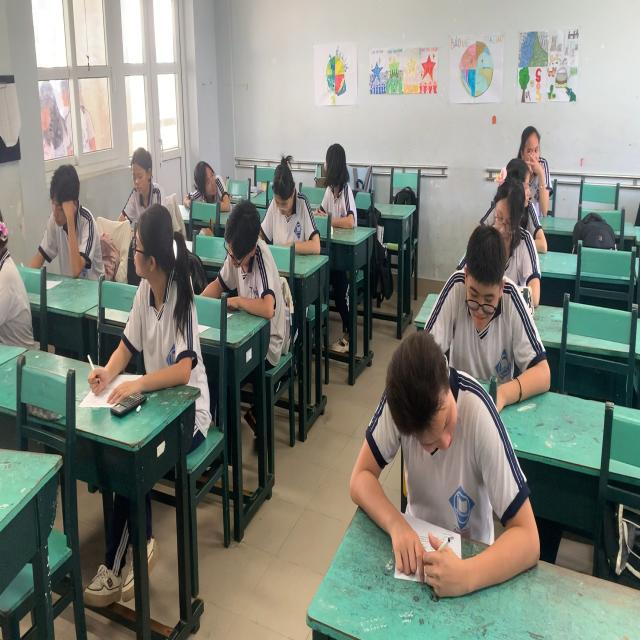cheating: (117, 203, 195, 386), (318, 137, 366, 237), (500, 137, 531, 220), (193, 165, 234, 216)
not_cheating: (364, 334, 490, 562), (424, 228, 524, 368), (43, 165, 98, 282), (257, 151, 316, 251), (224, 200, 267, 317), (519, 120, 555, 220), (120, 138, 166, 216), (489, 172, 518, 248)
